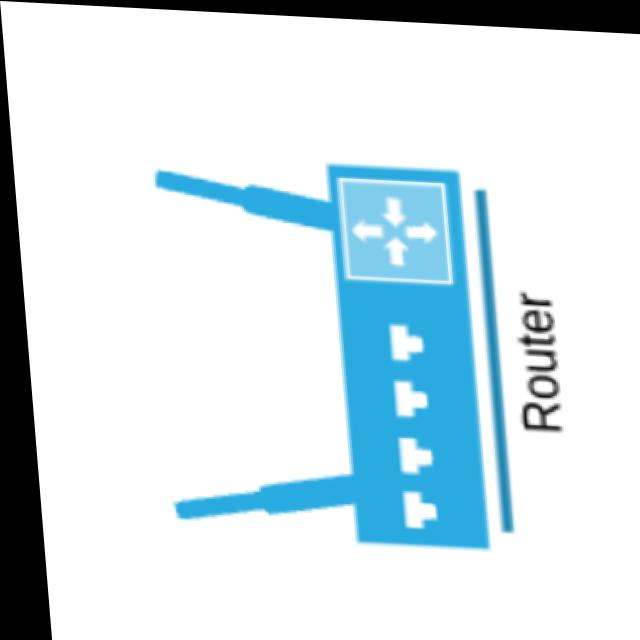Router: (45, 86, 519, 599)
